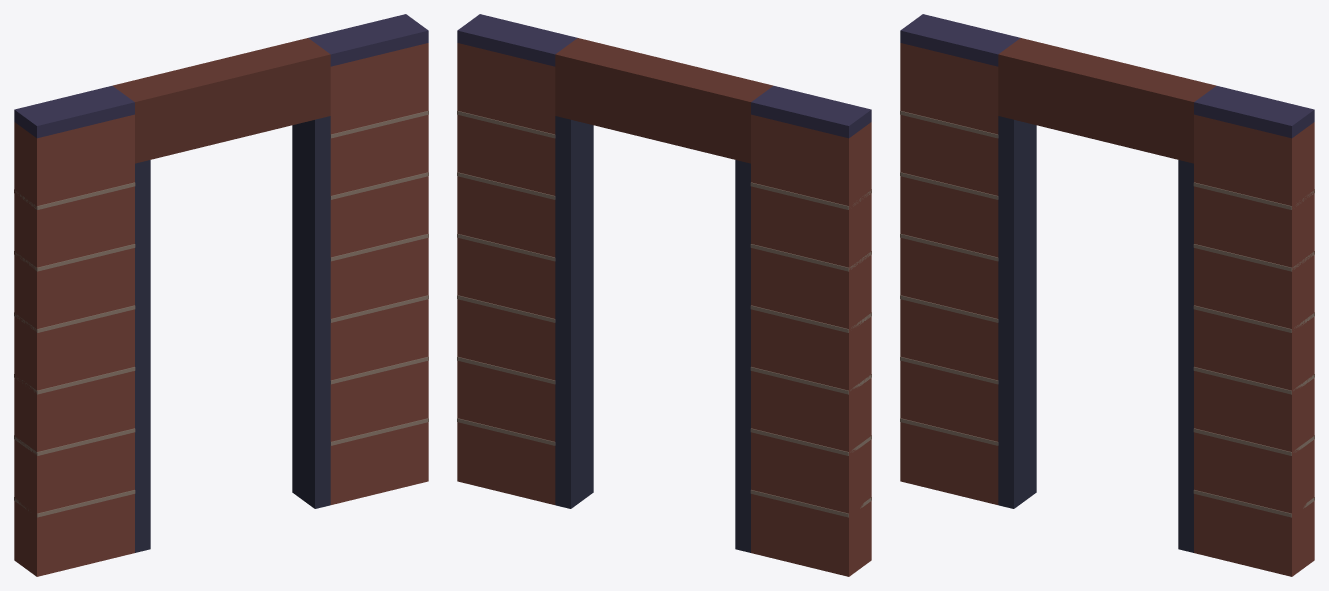
File: raum_wand_tuer.glb
The picture shows the model from 3 angles, left to right: view 1: azimuth 30°, elevation 25°; view 2: azimuth 150°, elevation 25°; view 3: azimuth 330°, elevation 25°; orthographic projection.
Parts seen in each view (by area): view 1: raum_wand_tuer; view 2: raum_wand_tuer; view 3: raum_wand_tuer.
Boxes of the visible parts, x1,y1,x2,y2 form: raum_wand_tuer: (14,14,428,576); raum_wand_tuer: (457,14,871,576); raum_wand_tuer: (900,14,1314,576).
Size of the model in its own units: 2 by 2.2 by 0.206.
